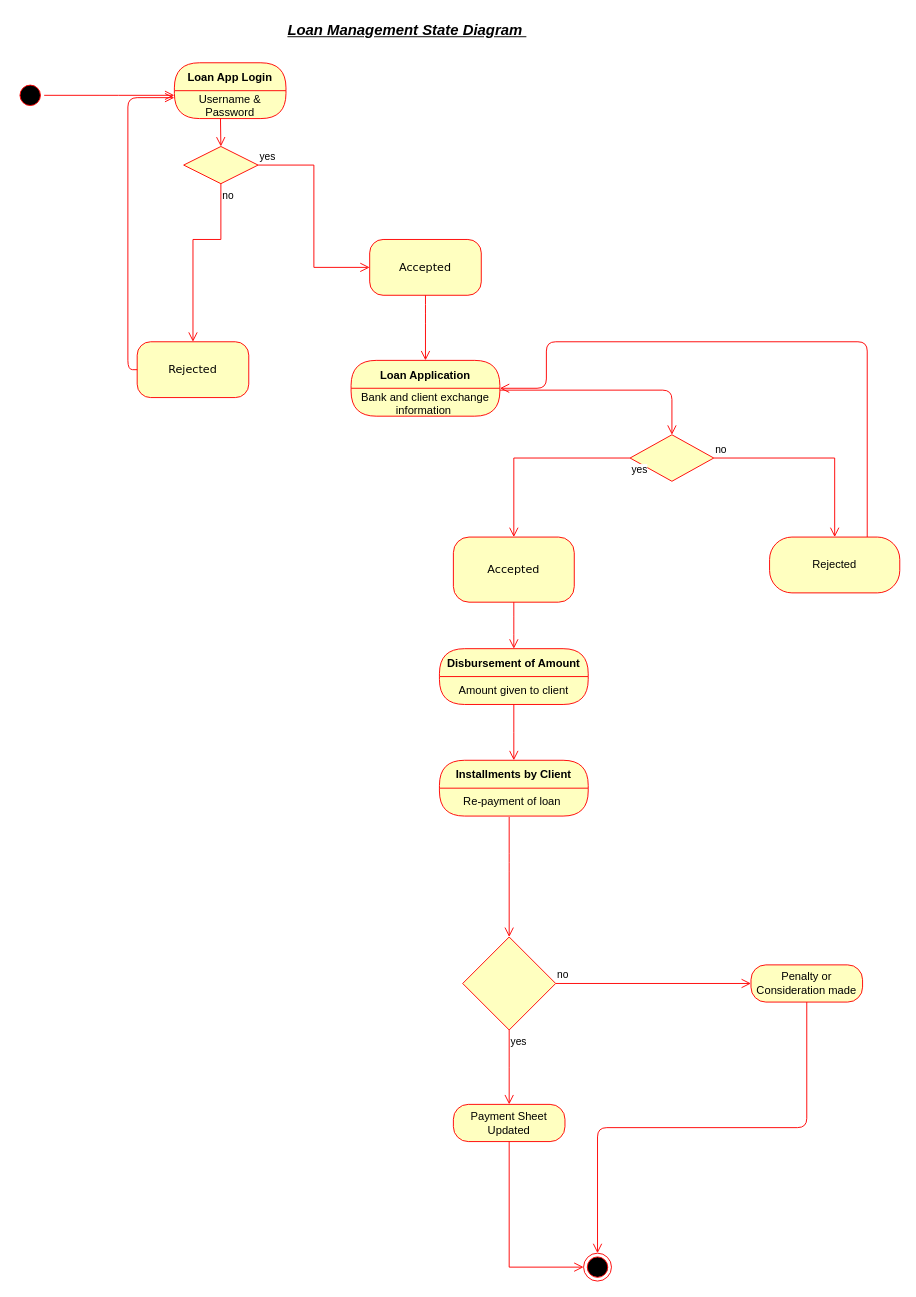
Image size: 916x1297. Some labels were removed from this diagram. Each missing label, with the centre of its shape:
Payments made on time or not: point 509,983
Validate User: point 220,165
Verify the condition: point 671,457
